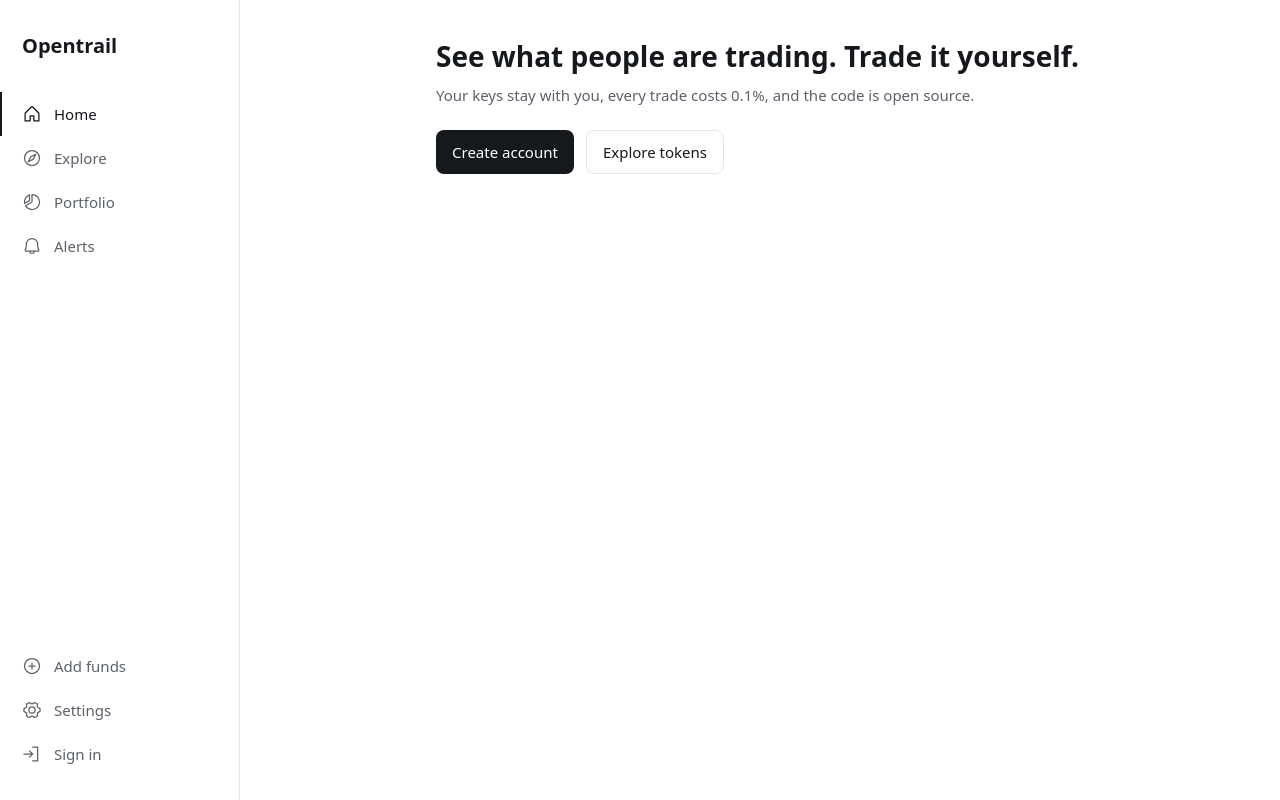
Test case: the sign-in sheet › signs in with the code sent by email
Click the button "Create account" at [505, 152], box top-left (436, 130), bottom-right (574, 174)
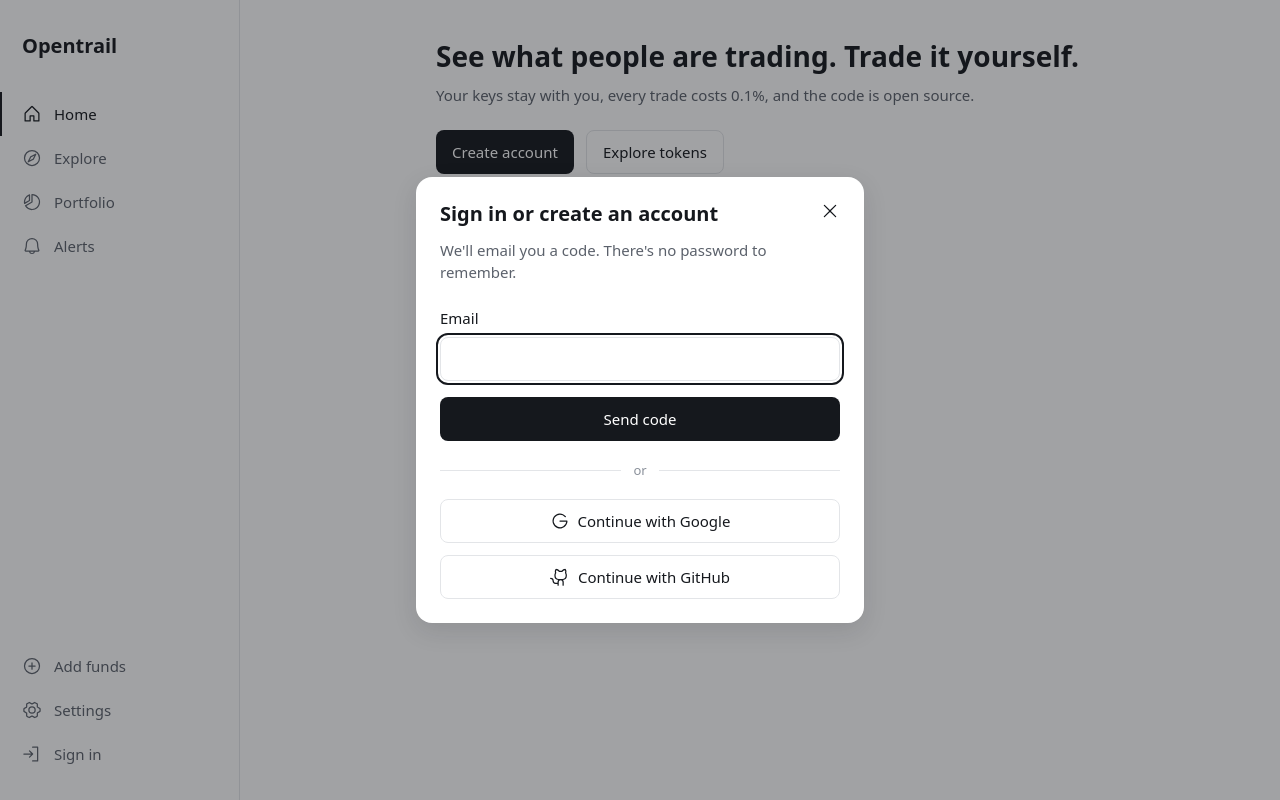
Type " maya@example.com " into the field labelled "Email" at [640, 359], box top-left (440, 337), bottom-right (840, 381)
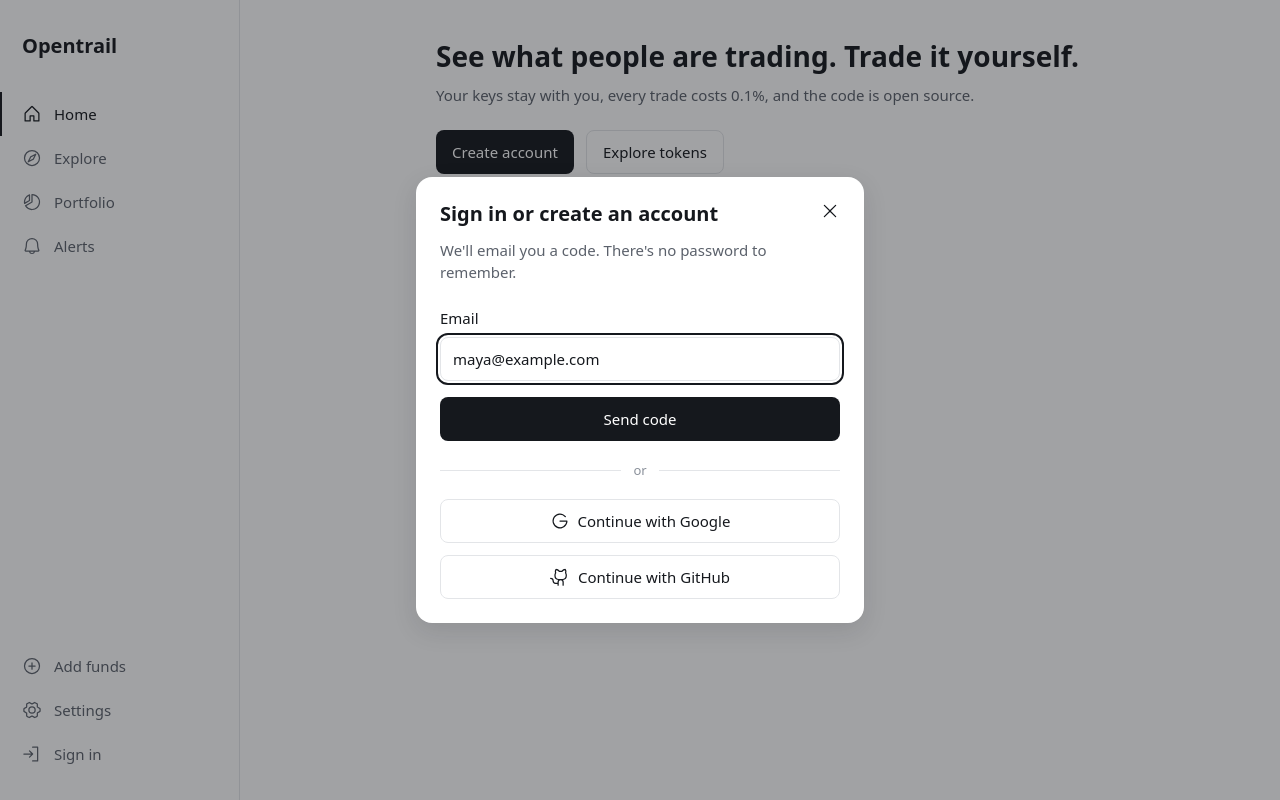
Click the button "Send code" at [640, 419], box top-left (440, 397), bottom-right (840, 441)
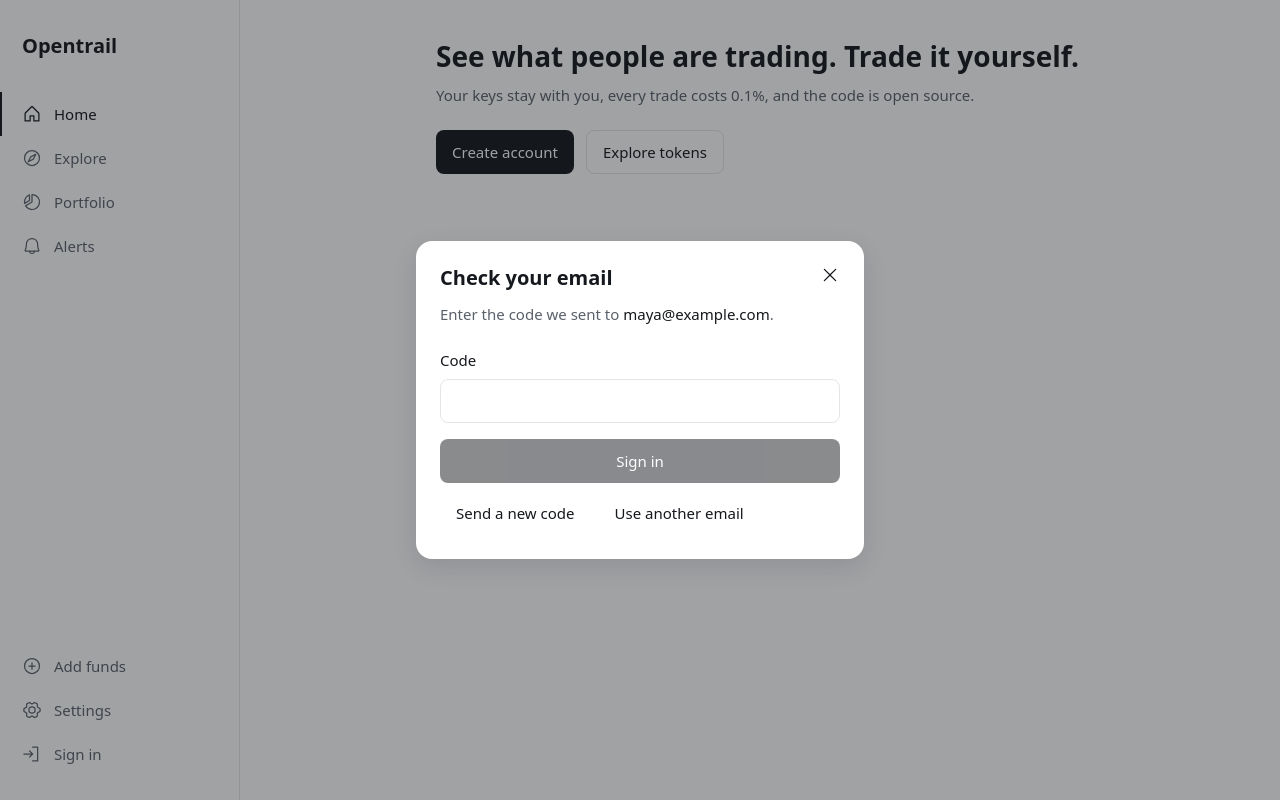
Now the heading "Check your email" is shown, box top-left (440, 264), bottom-right (612, 291)
Now the text "maya@example.com" is shown, box top-left (623, 304), bottom-right (770, 324)
Type "123456" into the field labelled "Code" at [640, 401], box top-left (440, 379), bottom-right (840, 423)
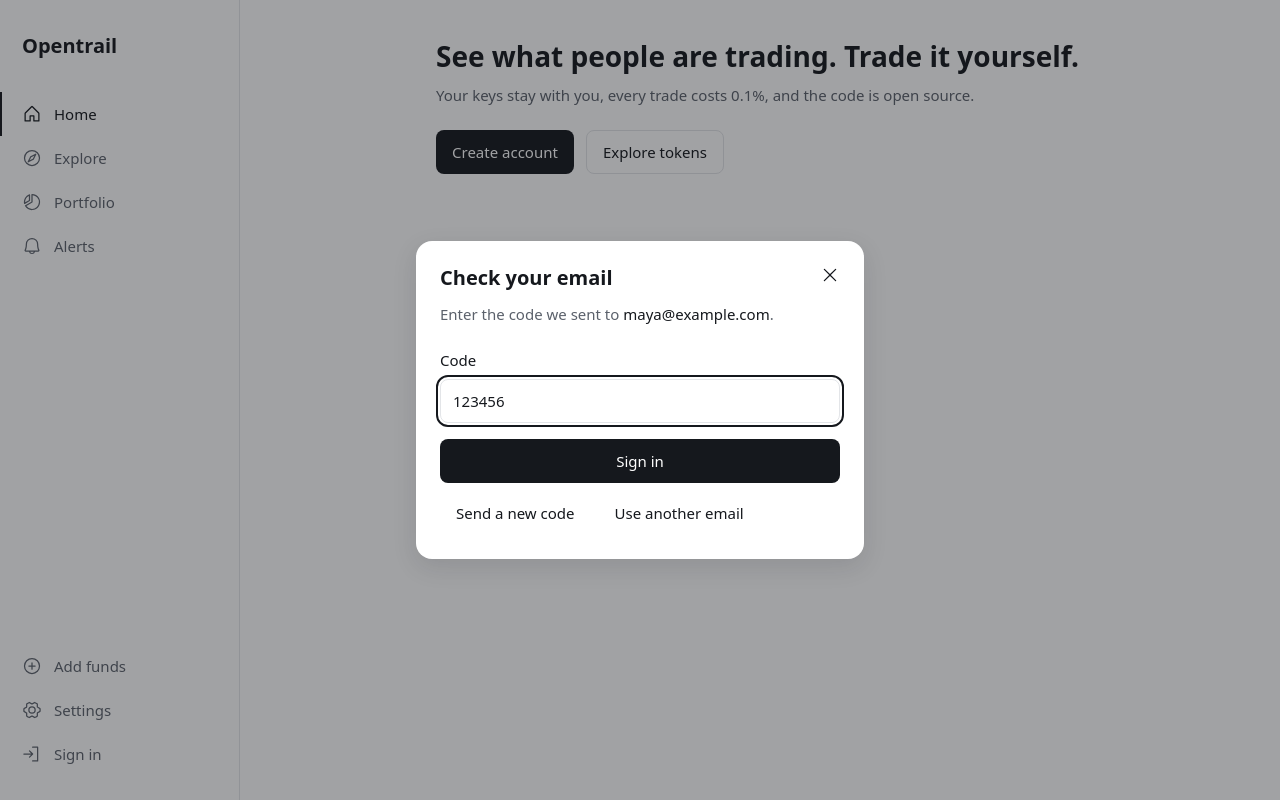
Click the button "Sign in" at [640, 461], box top-left (440, 439), bottom-right (840, 483)
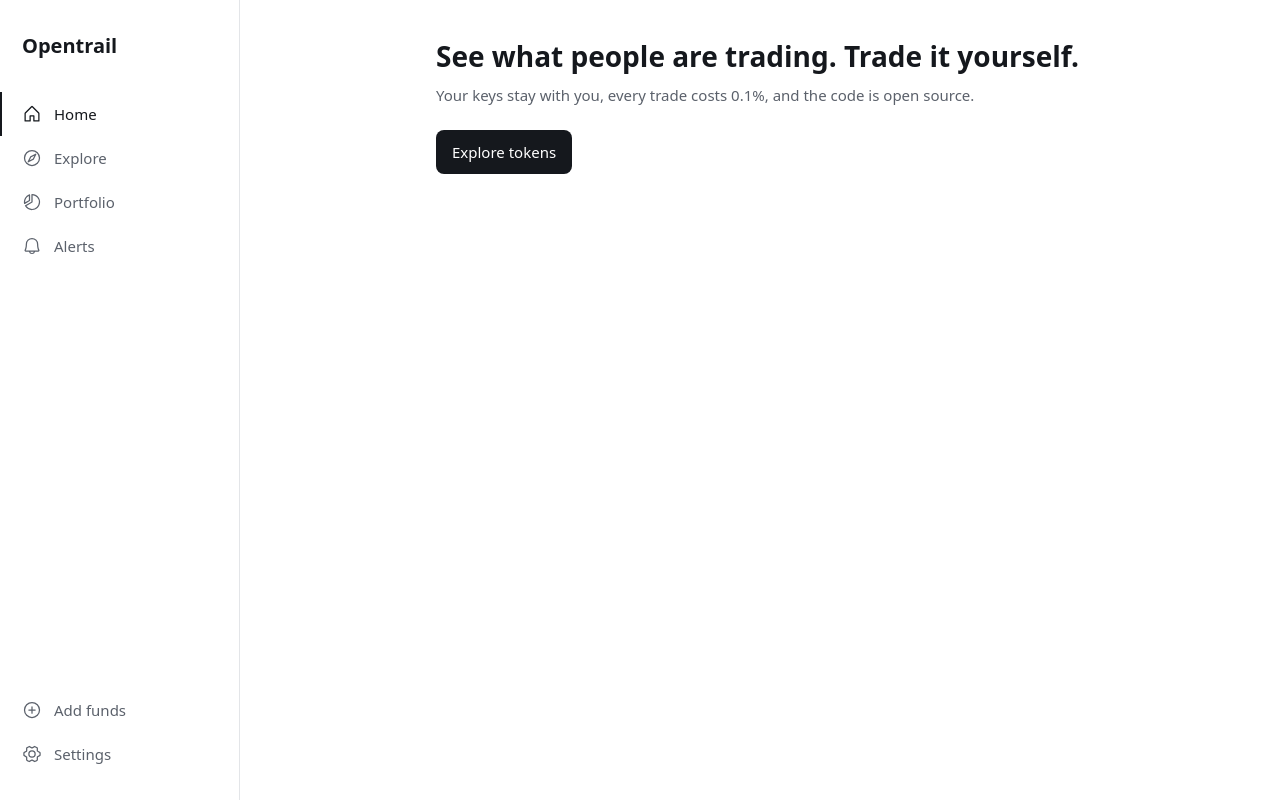
Now the heading "Check your email" is gone
Now the button "Create account" is gone
